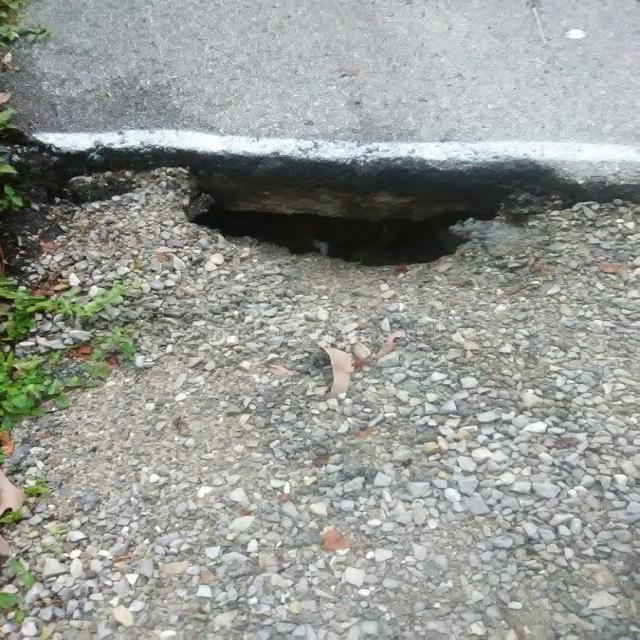pothole: (88, 118, 557, 373)
